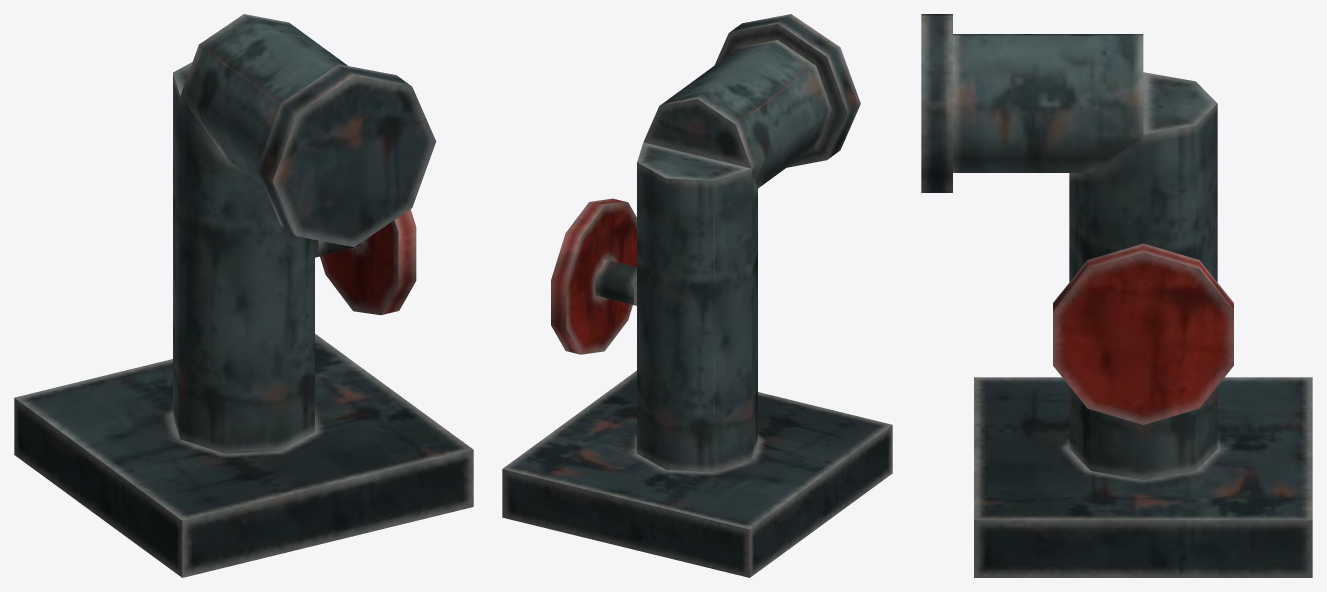
File: vent_pipe_0.glb
3 renders of one model, left to right at view 1: azimuth 30°, elevation 25°; view 2: azimuth 150°, elevation 25°; view 3: azimuth 270°, elevation 25°, orthographic. The views are drawn at different scales.
Parts seen in each view (by area): view 1: te_prop_vent_pipe_0; view 2: te_prop_vent_pipe_0; view 3: te_prop_vent_pipe_0.
Boxes of the visible parts, <box> form: te_prop_vent_pipe_0: <box>14,14,473,577</box>; te_prop_vent_pipe_0: <box>502,14,892,577</box>; te_prop_vent_pipe_0: <box>921,14,1312,577</box>.
Bounding box in the file's own units: 0.16 × 0.255 × 0.185.
Materials: 1 (1 with a texture image).
